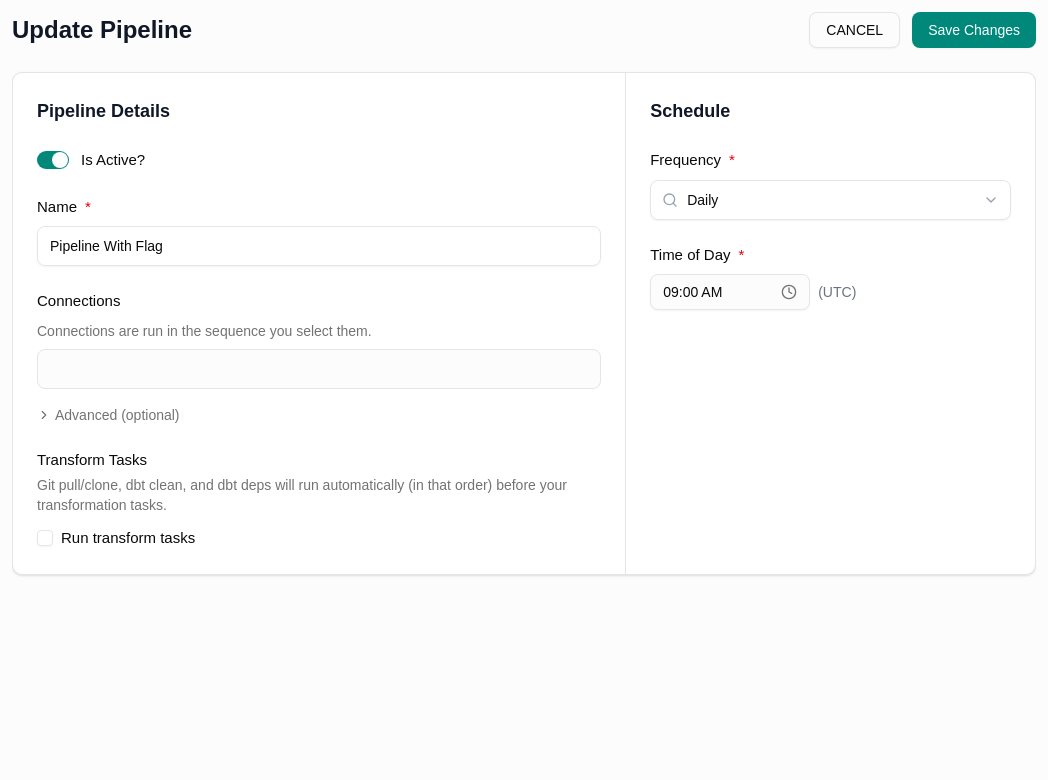
Test case: PipelineForm - Edit Mode Edge Cases › renders continueOnSyncFailure checkbox checked when pipeline has flag set
Click the button with test id "advanced-settings-toggle" at (108, 414), box [37,404,180,424]
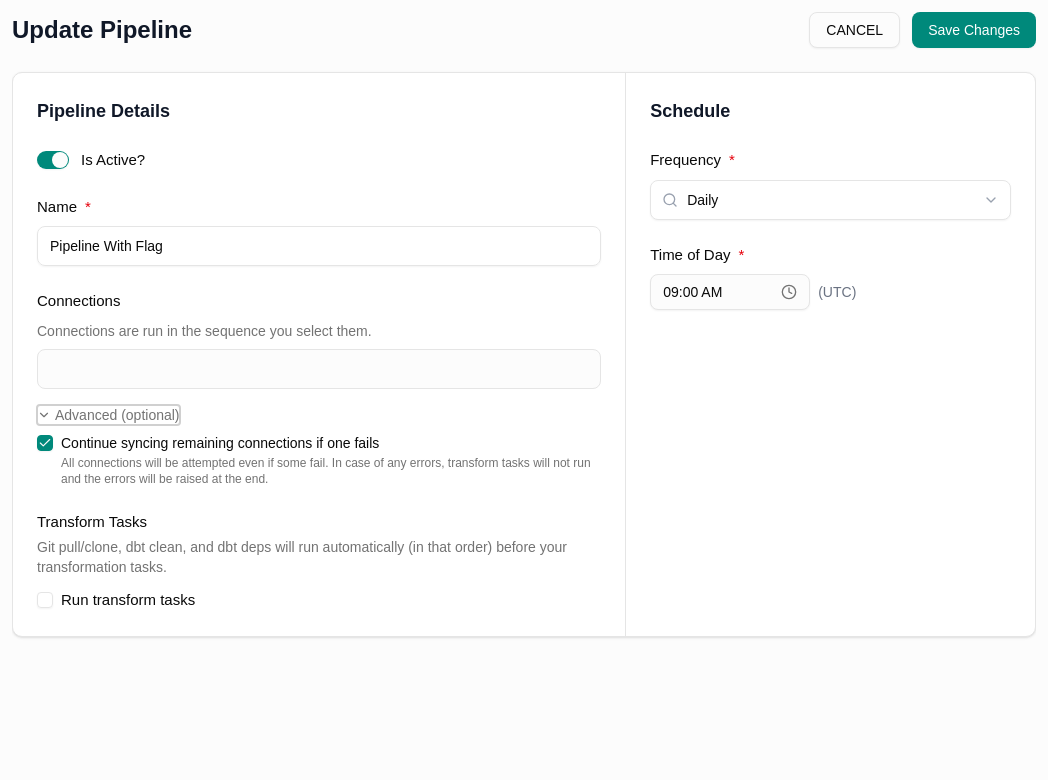
expect the checkbox with test id "continue-on-sync-failure-checkbox" is checked: met, box [37,434,53,450]
